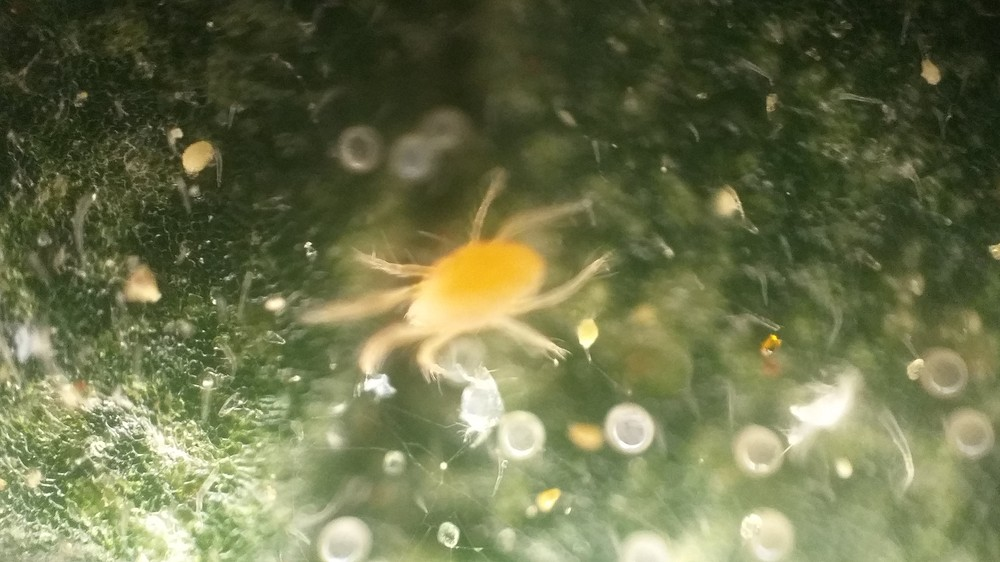Aracnido Rojo: (290, 172, 614, 390)
